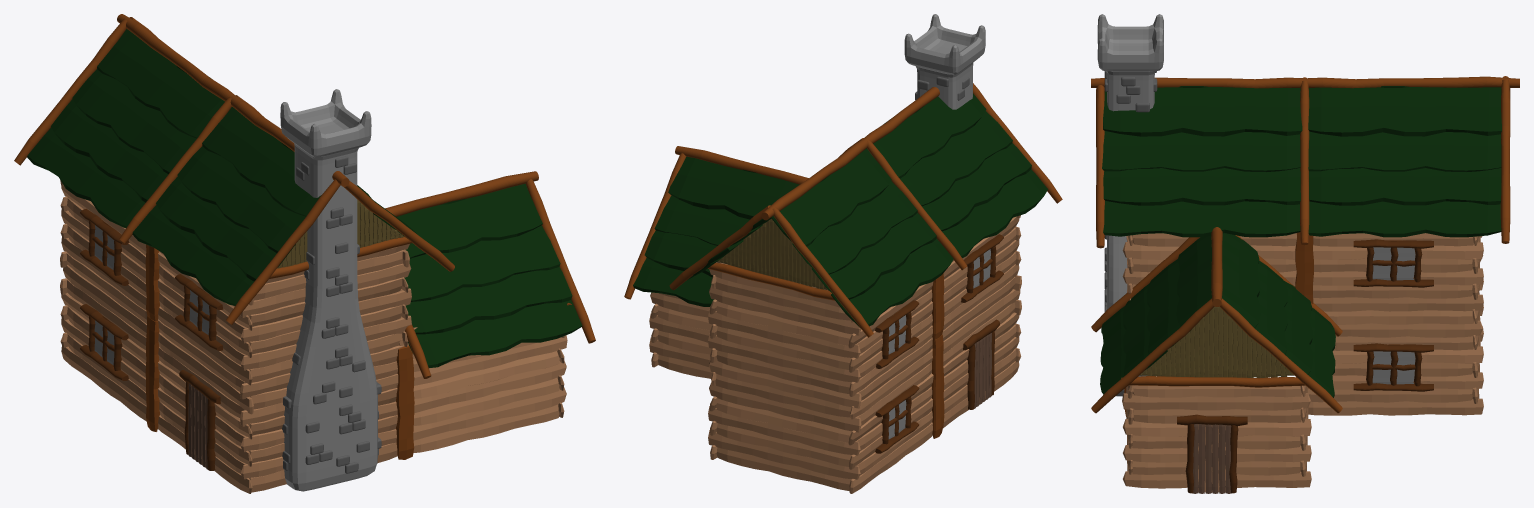
The model's file is woodenHouse2.fbx.
The picture shows the model from 3 angles, left to right: view 1: azimuth 30°, elevation 25°; view 2: azimuth 150°, elevation 25°; view 3: azimuth 270°, elevation 25°; orthographic projection. The views are drawn at different scales.
Parts seen in each view (by area): view 1: Cube.034, Cube.030, Cube.018, Cube.004, Cube.003, Cube.005, Cube.031, Cube.016, Cube.010, Cube.020, Cube.012, Cube.015 (+20 smaller); view 2: Cube.034, Cube.002, Cube.017, Cube.003, Cube.004, Cube.030, Cube.028, Cube.021, Cube.010, Cube.016, Cube.020, Cylinder.013 (+13 smaller); view 3: Cube.034, Cube.033, Cube.001, Cube.008, Cube.030, Cube.095, Cube.009, Cylinder.004, Cylinder.020, Cylinder.025, Cylinder.014, Cylinder.021 (+13 smaller).
Boxes of the visible parts, <box> form: Cube.034: <box>27,29,582,367</box>; Cube.030: <box>280,89,377,491</box>; Cube.018: <box>240,244,411,382</box>; Cube.004: <box>157,319,253,493</box>; Cube.003: <box>61,252,159,421</box>; Cube.005: <box>240,345,404,492</box>; Cube.031: <box>282,156,381,473</box>; Cube.016: <box>158,251,253,385</box>; Cube.010: <box>61,186,159,309</box>; Cube.020: <box>145,244,159,431</box>; Cube.012: <box>413,387,566,440</box>; Cube.015: <box>413,351,559,398</box>; Cube.034: <box>633,93,1047,328</box>; Cube.002: <box>708,360,861,491</box>; Cube.017: <box>708,262,861,394</box>; Cube.003: <box>848,338,933,493</box>; Cube.004: <box>932,277,1020,428</box>; Cube.030: <box>904,14,985,109</box>; Cube.028: <box>649,292,712,378</box>; Cube.021: <box>717,218,828,290</box>; Cube.010: <box>848,281,933,396</box>; Cube.016: <box>943,216,1019,330</box>; Cube.020: <box>931,273,944,438</box>; Cylinder.013: <box>772,207,873,337</box>; Cube.034: <box>1100,86,1501,397</box>; Cube.033: <box>1122,385,1311,488</box>; Cube.001: <box>1308,310,1483,415</box>; Cube.008: <box>1313,233,1483,311</box>; Cube.030: <box>1097,14,1163,396</box>; Cube.095: <box>1139,306,1294,377</box>; Cube.009: <box>1122,233,1296,287</box>; Cylinder.004: <box>1192,424,1231,493</box>; Cylinder.020: <box>1353,239,1433,287</box>; Cylinder.025: <box>1353,343,1433,391</box>; Cylinder.014: <box>1305,76,1519,88</box>; Cylinder.021: <box>1177,414,1247,493</box>.
Size of the model in its own units: 8563 by 8207 by 8967.
